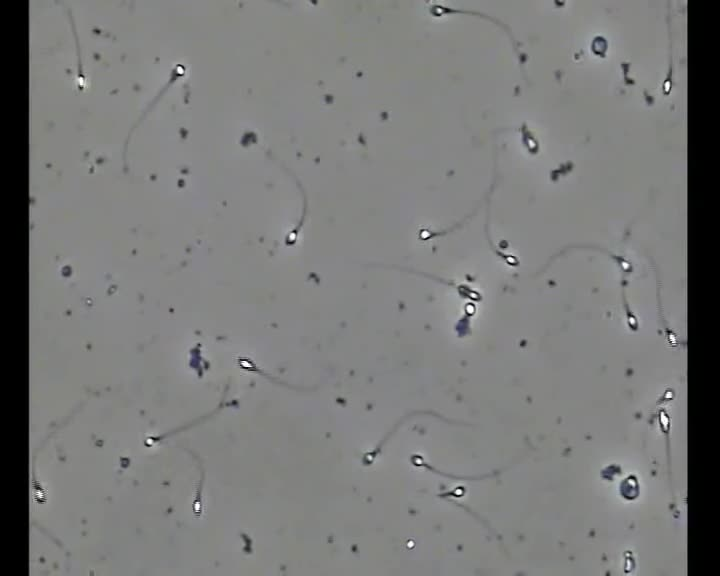spermhead: (188, 344, 209, 375), (520, 123, 538, 154), (620, 475, 639, 500), (456, 284, 481, 301), (591, 34, 608, 57), (657, 408, 671, 435), (600, 463, 621, 481), (614, 255, 633, 274), (455, 314, 470, 337), (661, 68, 673, 95), (625, 307, 638, 331), (623, 550, 636, 574), (429, 4, 452, 17), (170, 63, 186, 81), (33, 481, 46, 503), (499, 252, 518, 267), (237, 357, 256, 371), (74, 72, 88, 91), (664, 328, 678, 346), (240, 533, 252, 554), (410, 452, 426, 467), (362, 449, 377, 465), (658, 387, 674, 402), (285, 228, 298, 245), (144, 434, 161, 447), (667, 501, 680, 518), (449, 484, 465, 497), (417, 228, 434, 240), (463, 301, 476, 316), (192, 495, 201, 514), (517, 51, 528, 65), (222, 398, 239, 407), (497, 239, 508, 250), (407, 538, 415, 550), (86, 296, 94, 308), (554, 0, 564, 7)
